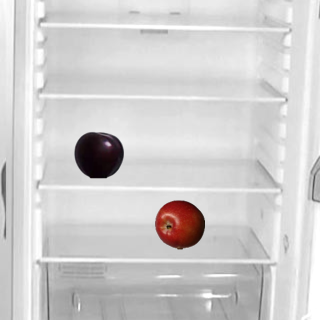Apple Braeburn: (154, 199, 204, 249)
Cherry Wax Black: (73, 129, 123, 179)
